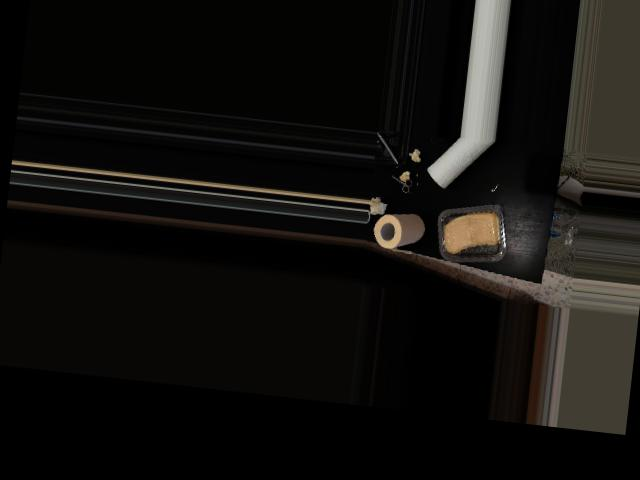cheese: (433, 200, 511, 263)
